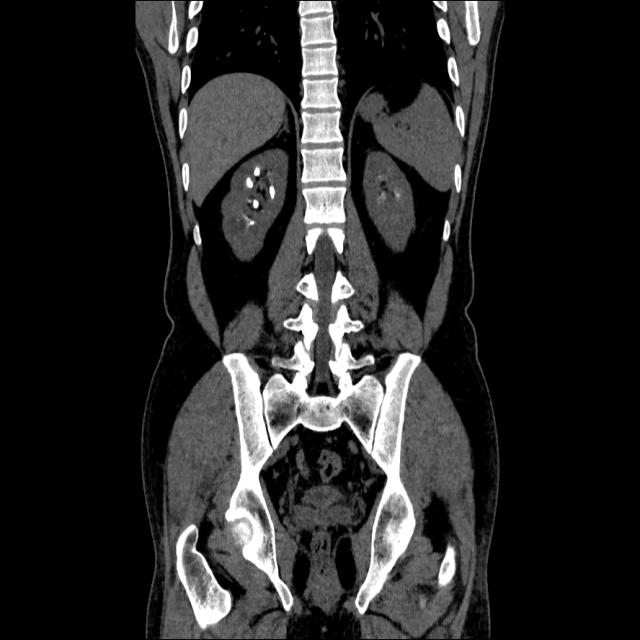kidneystone: (252, 199, 260, 209), (246, 178, 254, 188), (269, 185, 275, 198), (254, 167, 261, 177)
